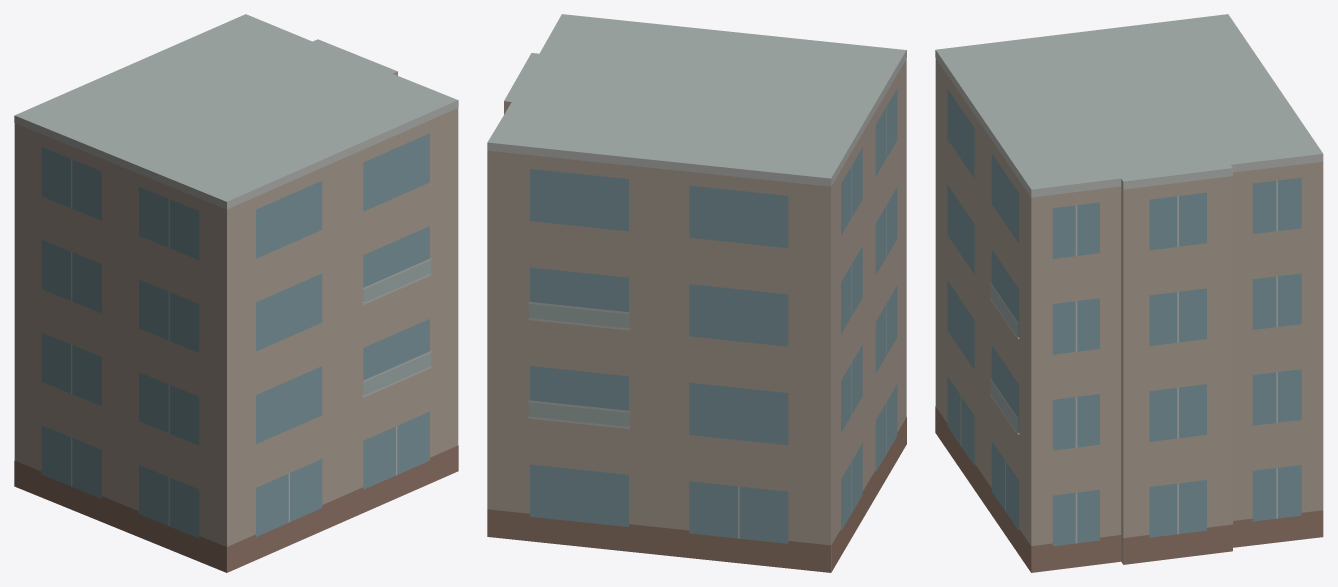
File: survey-upis-32710940.glb
3 views of the same model, side by side, from view 1: azimuth 30°, elevation 25°; view 2: azimuth 150°, elevation 25°; view 3: azimuth 270°, elevation 25° (orthographic). The views are drawn at different scales.
Parts seen in each view (by area): view 1: survey-upis-32710940.tmp; view 2: survey-upis-32710940.tmp; view 3: survey-upis-32710940.tmp.
Boxes of the visible parts, x1,y1,x2,y2 form: survey-upis-32710940.tmp: (14, 14, 458, 572); survey-upis-32710940.tmp: (487, 14, 906, 572); survey-upis-32710940.tmp: (935, 14, 1323, 572).
Size of the model in its own units: 11.62 by 11.8 by 10.84.
